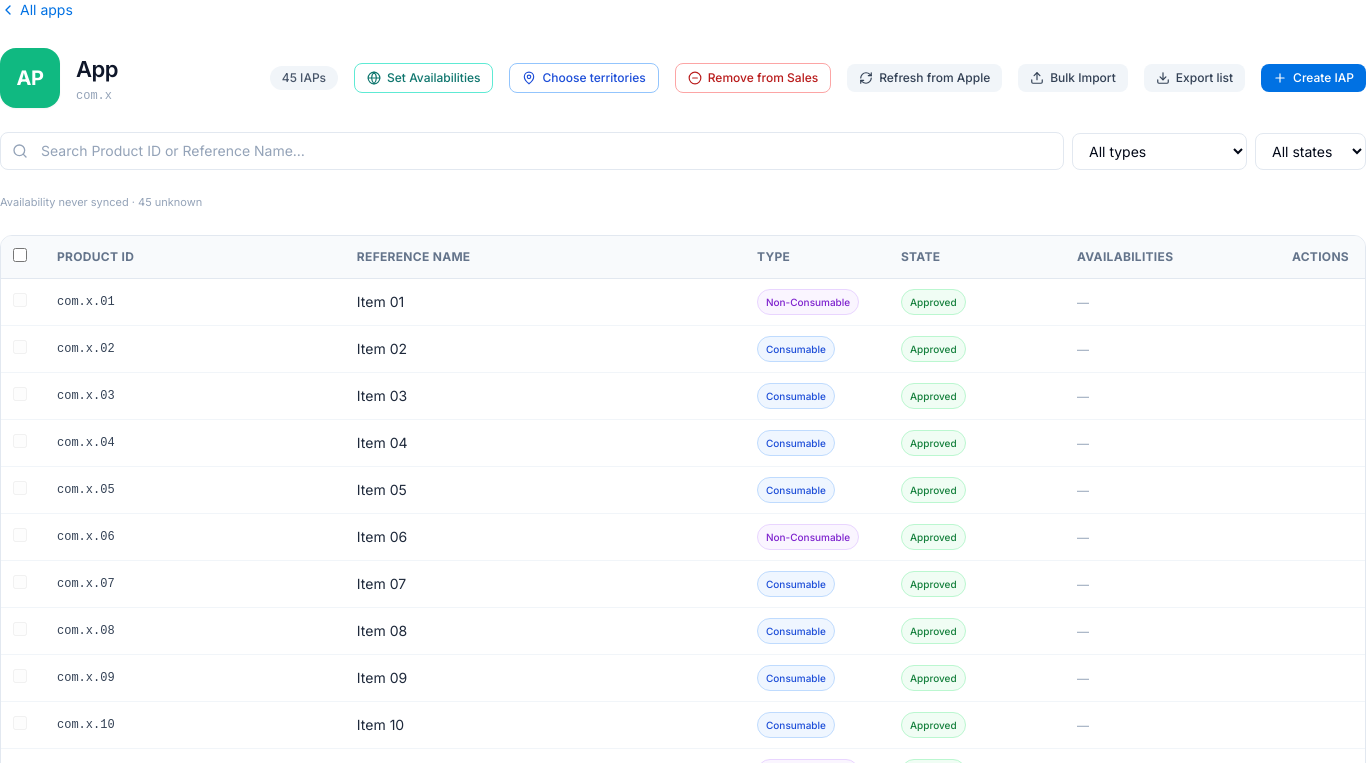
Test: ⚠ (A) and (B) have DIFFERENT scopes, and that is the whole of M7 › (A) takes every matching row across every page — 45, not 20
Click the button "Export list" at x=1194, y=78, box [1144,64,1245,92]
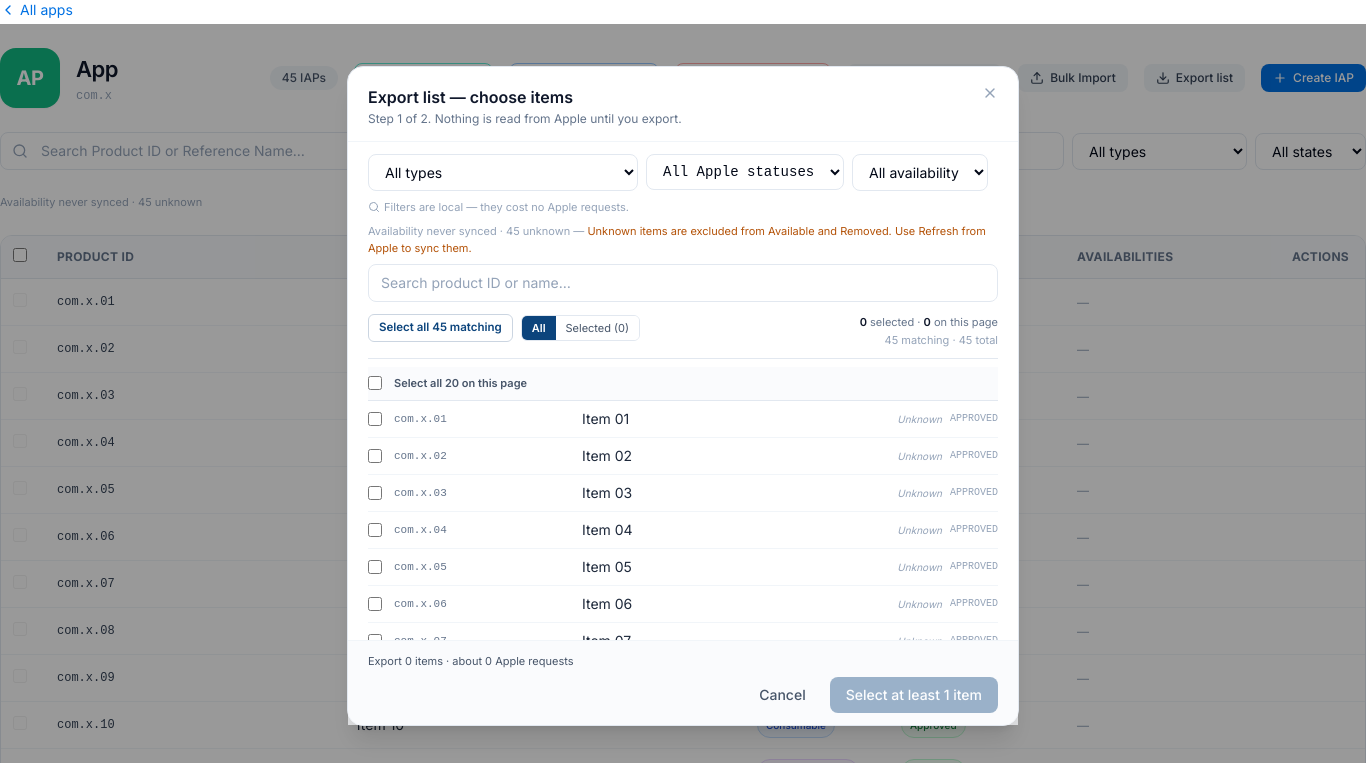
Click the button with test id "select-all-matching" at x=440, y=328, box [368,314,513,342]
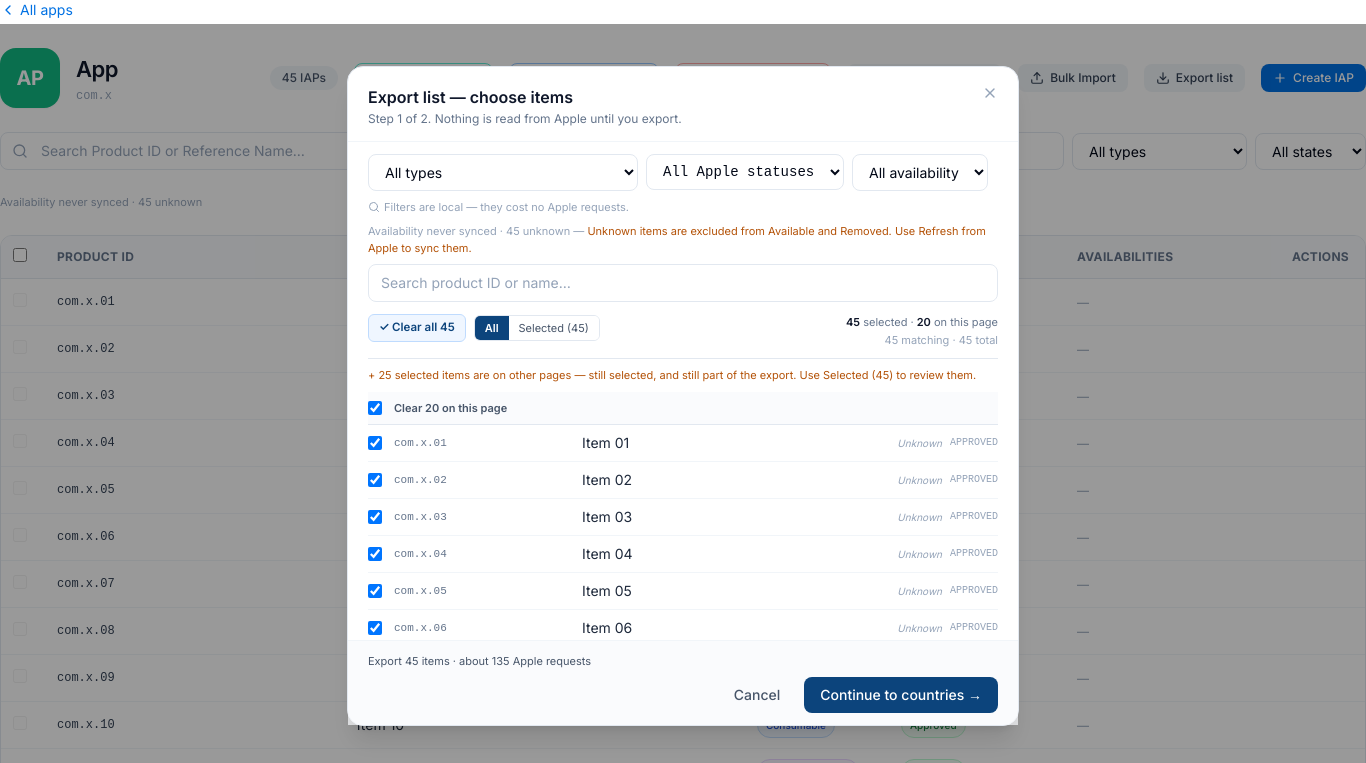
Expected: the element with test id "selection-counts" shows "45 selected", [846,314,998,350]
Expected: the element with test id "selection-counts" shows "20 on this page", [846,314,998,350]
